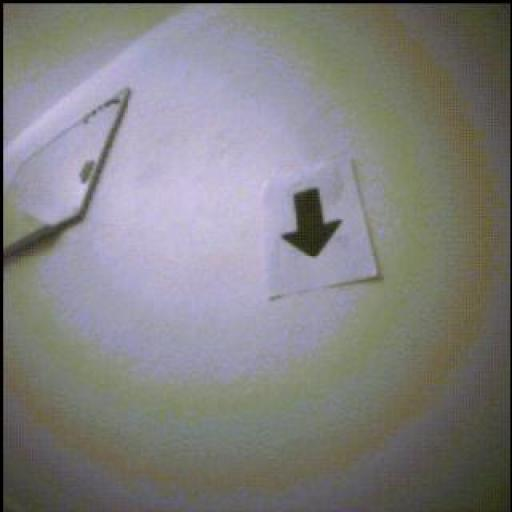arrow: (283, 190, 342, 259)
